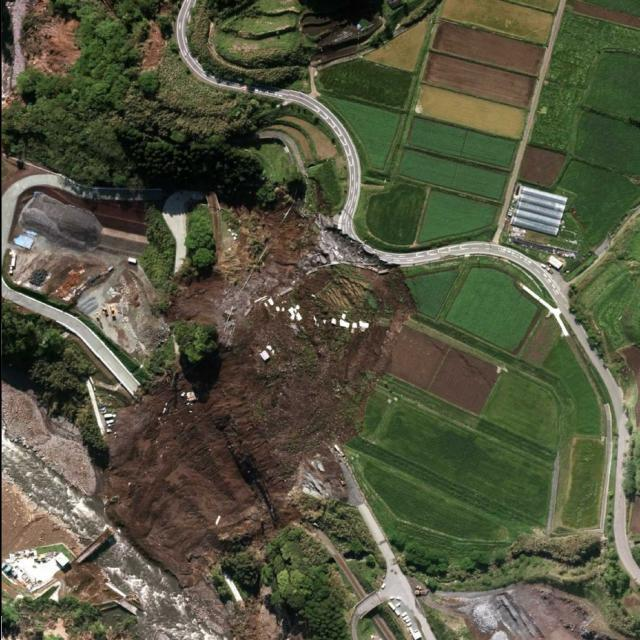landslide: (104, 209, 412, 586)
